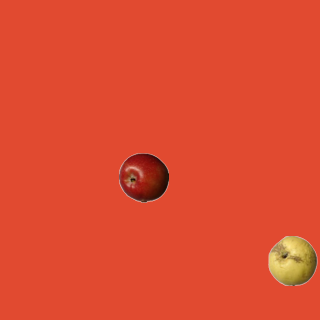Apple Braeburn: (118, 152, 168, 202)
Apple Golden 1: (267, 235, 317, 285)
